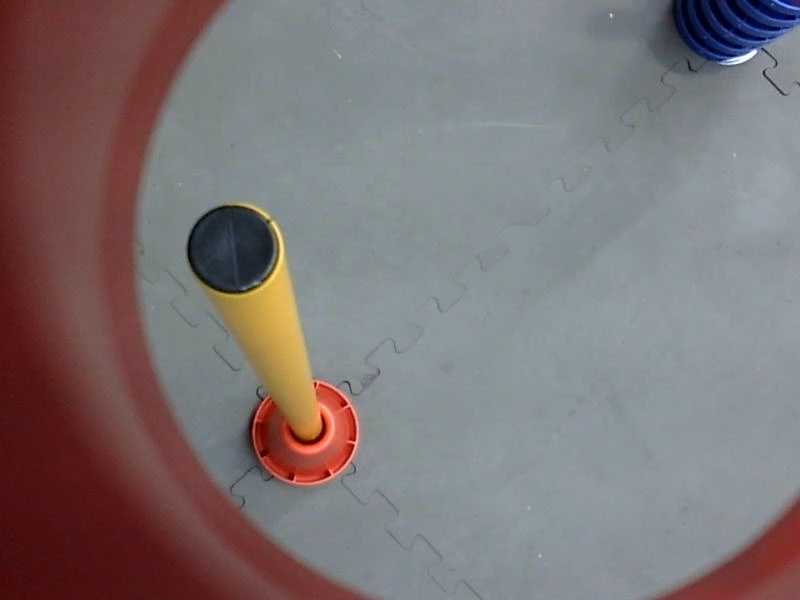tip: (179, 198, 290, 302)
